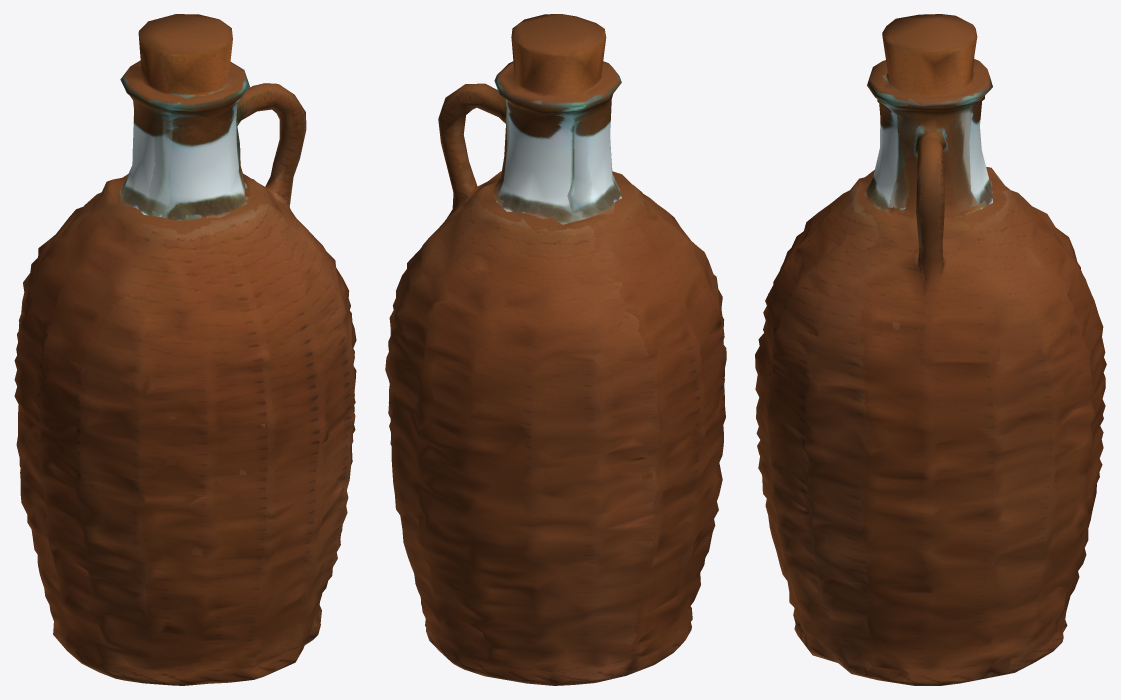
File: damajuana.glb
3 views of the same model, side by side, from view 1: azimuth 30°, elevation 25°; view 2: azimuth 150°, elevation 25°; view 3: azimuth 270°, elevation 25° (orthographic).
Parts seen in each view (by area): view 1: temp_mesh.ply; view 2: temp_mesh.ply; view 3: temp_mesh.ply.
Part boxes in pixels (x1,y1,x2,y2): temp_mesh.ply: (14,14,356,685); temp_mesh.ply: (385,14,726,685); temp_mesh.ply: (755,14,1106,685).
Bounding box in the file's own units: 0.2561 × 0.5 × 0.2655.
Materials: 1 (1 with a texture image).
